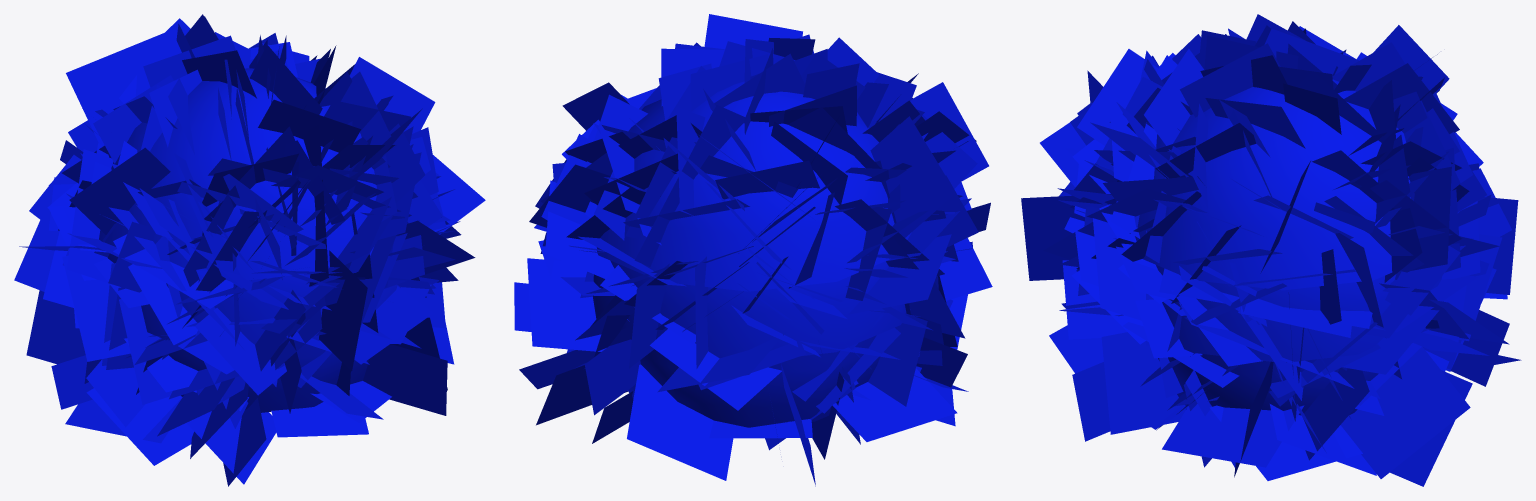
The model's file is Buisson_LowPoly.fbx.
3 renders of one model, left to right at view 1: azimuth 30°, elevation 25°; view 2: azimuth 150°, elevation 25°; view 3: azimuth 270°, elevation 25°, orthographic. The views are drawn at different scales.
Parts seen in each view (by area): view 1: Plane; view 2: Plane; view 3: Plane.
Part boxes in pixels (x1=…): Plane: x1=14, y1=14, x2=485, y2=486; Plane: x1=514, y1=14, x2=992, y2=486; Plane: x1=1021, y1=14, x2=1521, y2=486.
Bounding box in the file's own units: 2.77 × 2.42 × 2.85.
